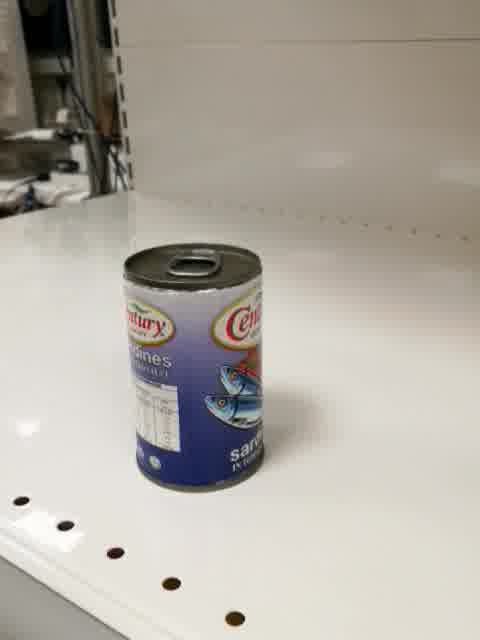sardine: (122, 240, 267, 496)
